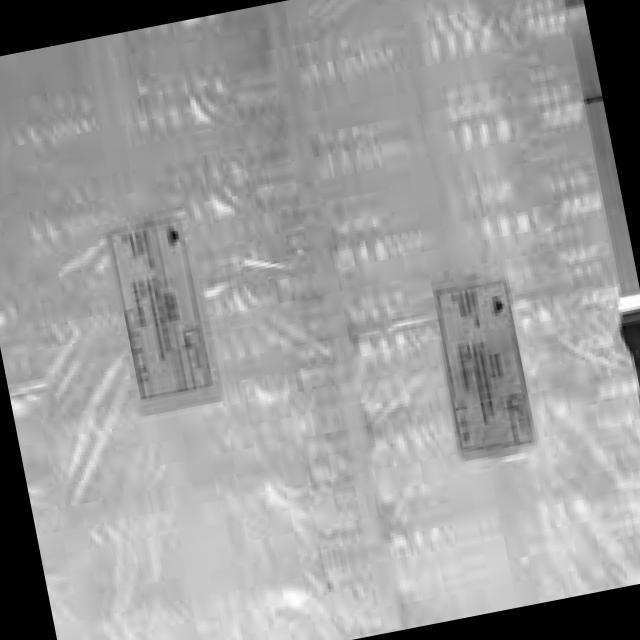good: (338, 303, 632, 487), (342, 388, 640, 566), (0, 11, 285, 196), (316, 123, 603, 299), (281, 52, 596, 212), (320, 210, 610, 382), (253, 0, 591, 134), (11, 153, 310, 304), (375, 482, 640, 632), (50, 235, 322, 378), (110, 488, 367, 638), (88, 409, 355, 538), (109, 298, 328, 451)
